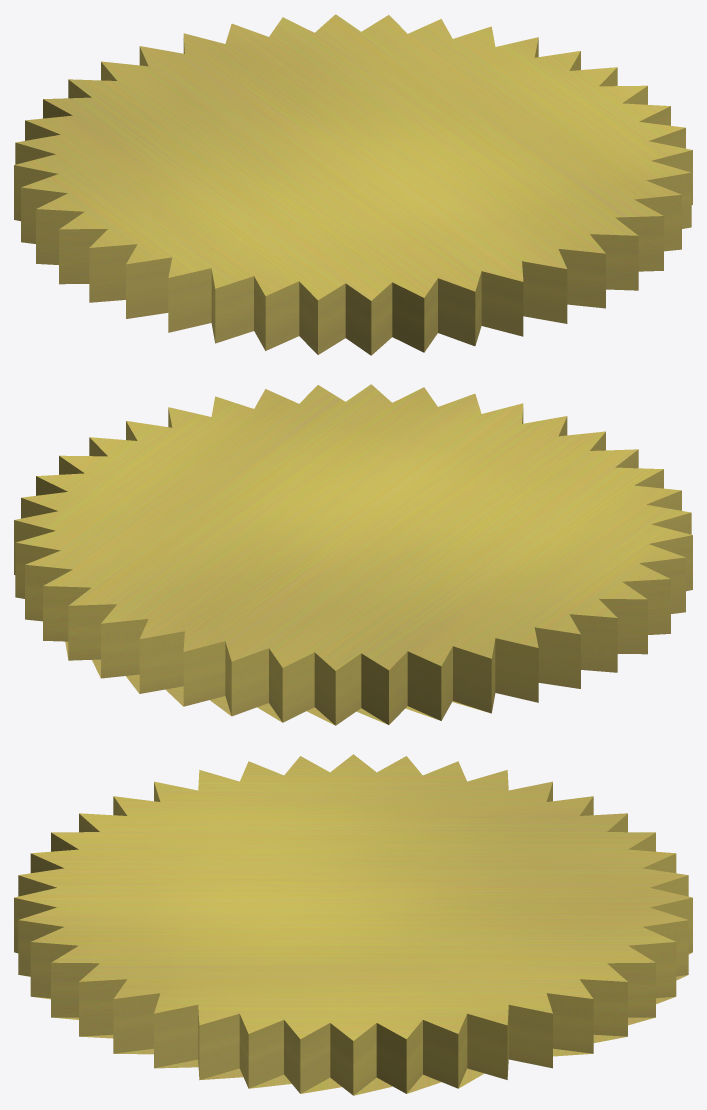
The model's file is ClockStraight4Spoke040.fbx.
The picture shows the model from 3 angles, top to bottom: view 1: azimuth 30°, elevation 25°; view 2: azimuth 150°, elevation 25°; view 3: azimuth 270°, elevation 25°; orthographic projection.
Visible parts, largest first — view 1: ClockStraight4Spoke040; view 2: ClockStraight4Spoke040; view 3: ClockStraight4Spoke040.
Boxes of the visible parts, x1,y1,x2,y2 form: ClockStraight4Spoke040: [14, 14, 692, 355]; ClockStraight4Spoke040: [14, 384, 692, 725]; ClockStraight4Spoke040: [14, 754, 692, 1095].
Bounding box in the file's own units: 221 × 19.69 × 221.
